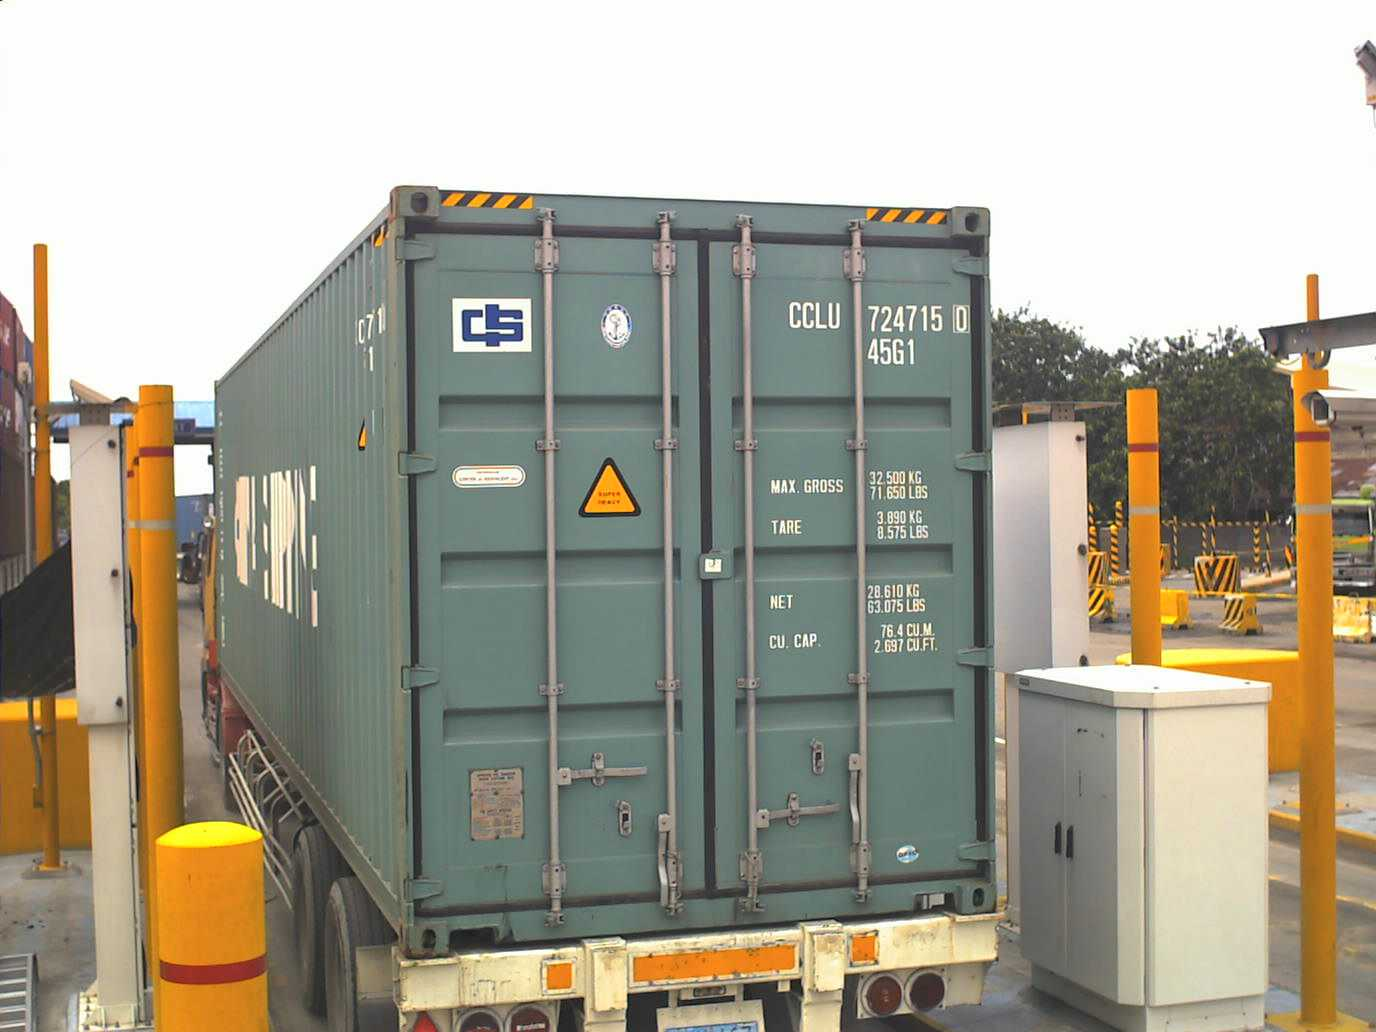container_door: (379, 175, 1004, 920)
